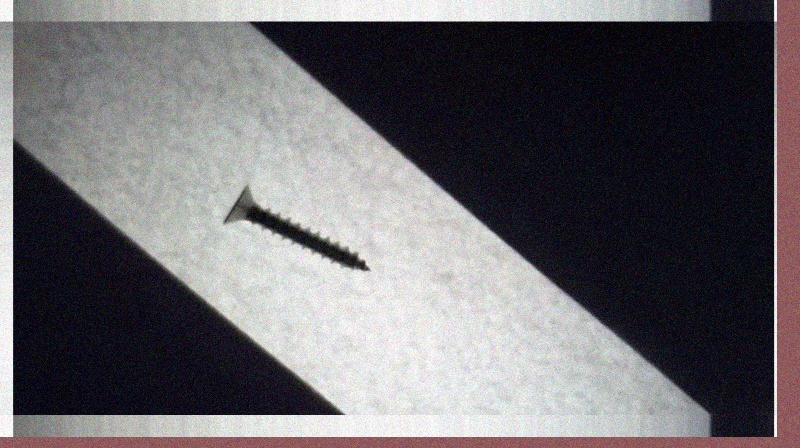S001: (217, 181, 373, 273)
